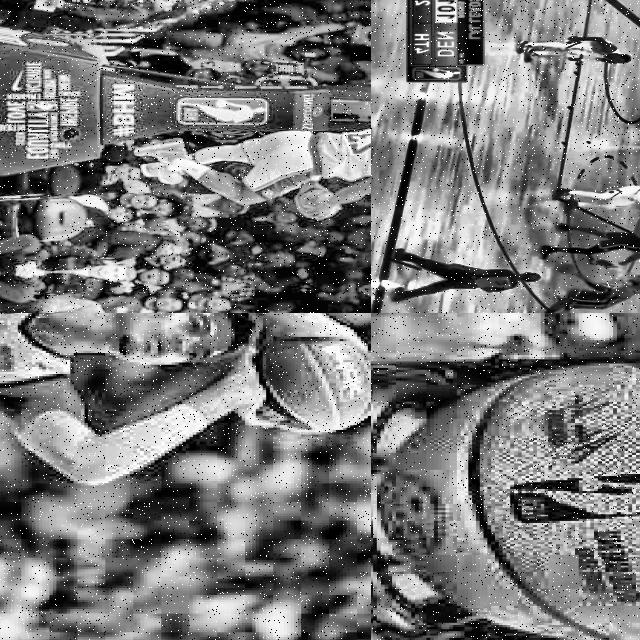Basketball: (382, 361, 640, 640), (294, 181, 340, 219), (556, 264, 576, 274)
